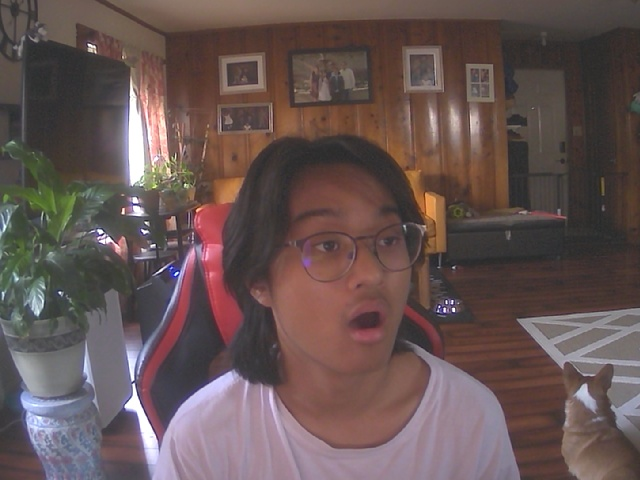fear: (241, 144, 429, 378)
